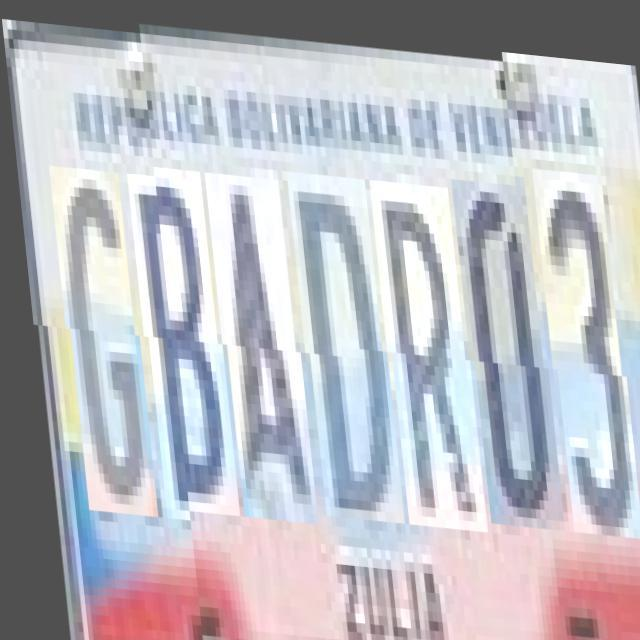0: (453, 170, 555, 520)
3: (535, 167, 634, 536)
A: (205, 169, 308, 519)
B: (128, 162, 230, 512)
D: (288, 166, 394, 516)
G: (50, 156, 146, 506)
R: (370, 172, 478, 522)
